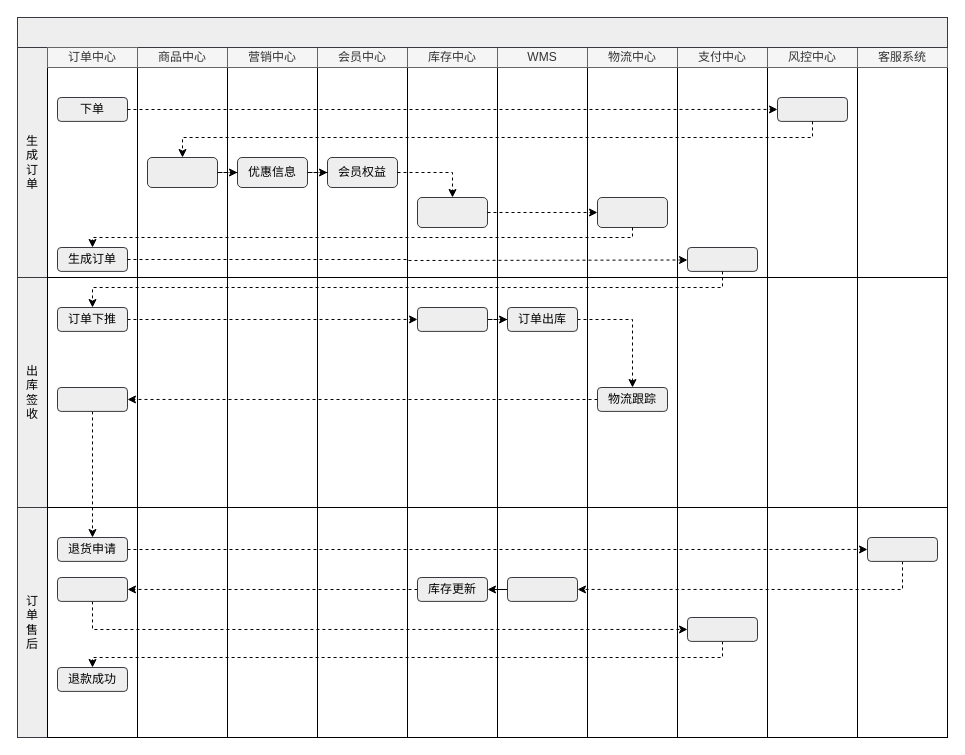
The diagram is 965 pixels wide and 755 high, and some of its shapes have lost their labels. Here are the shapes that lost their labels. From the top down, the centre of each, then its label:
point 482,32: 下单流程
point 812,108: 安全校验
point 182,172: 商品信息
point 452,212: 库存锁定
point 632,212: 运费计算
point 722,258: 订单支付
point 452,318: 调度发货
point 92,398: 用户签收
point 902,548: 售后审核 通过
point 92,588: 售后状态 更新
point 542,588: 退货入库
point 722,628: 支付信息 查询
